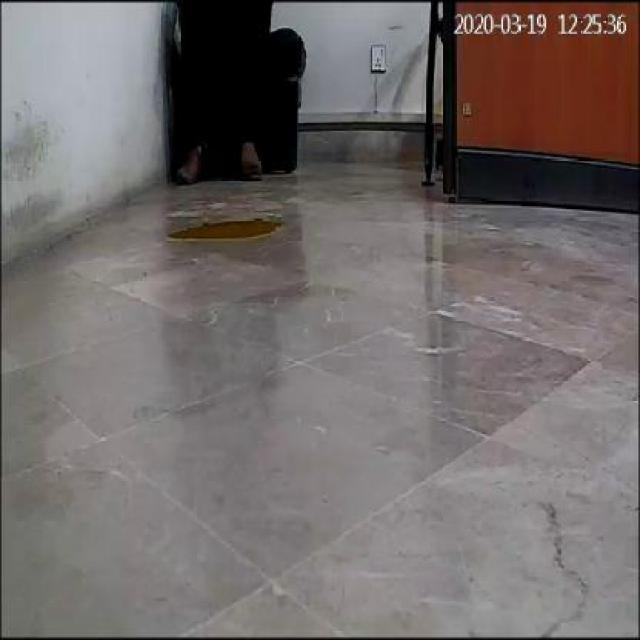spill: (166, 216, 280, 239)
